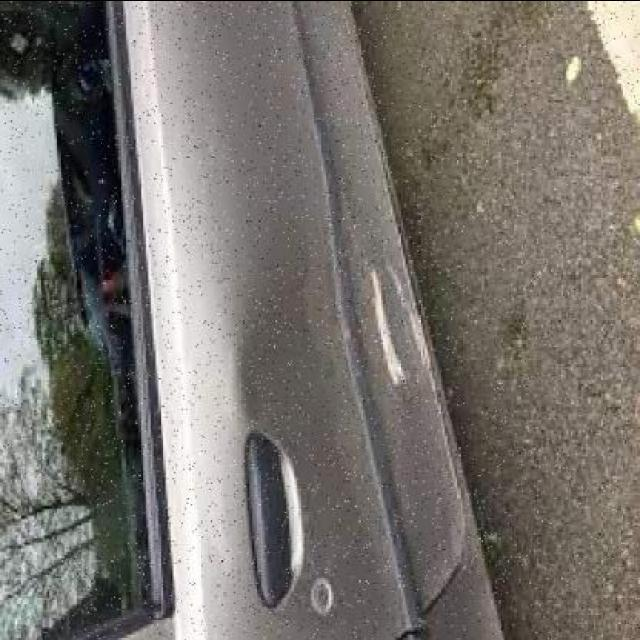doorouter-dent: (149, 3, 440, 637)
